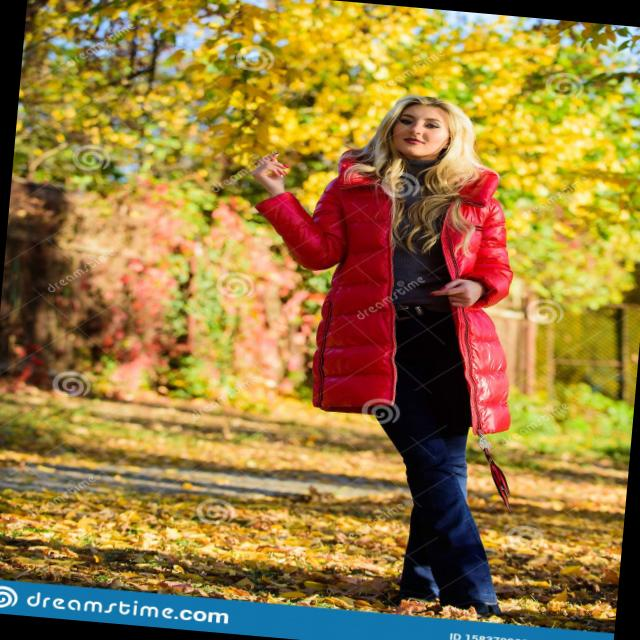Jacket: (208, 134, 570, 443)
